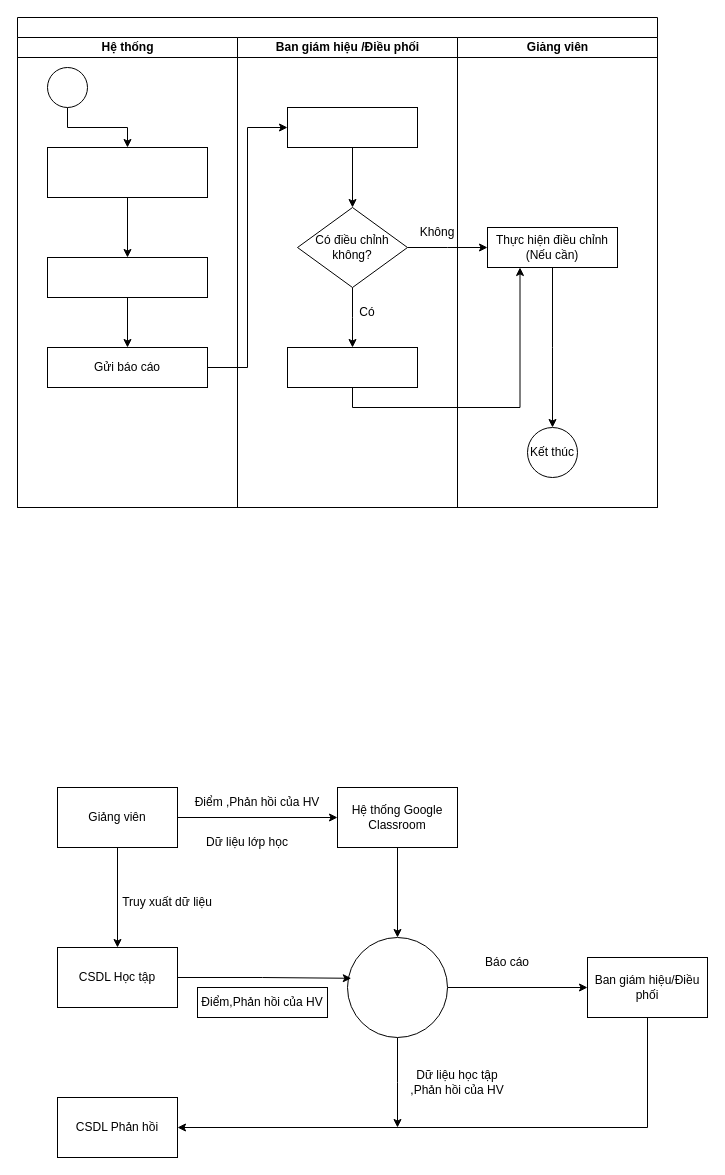
Some shapes in this 725 by 1175 pixel diagram are drawn without their labels. The shapes that lost their labels are listed below. From the top down, each one's box as (x1, y1, x2, y2) in pixels, then its label:
(46, 66, 88, 108): Bắt đầu
(286, 106, 418, 148): Nhận và xem báo cáo
(46, 146, 208, 198): Tự động thu thập dữ liệu lớp học(Điểm,tỷ lệ hoàn thành,phản hồi từ học viên)
(46, 256, 208, 298): Tổng hợp dữ liệu thành báo cáo
(16, 16, 658, 508): Quy trình báo cáo & giám sát
(286, 346, 418, 388): Ra quyết định điều chỉnh
(346, 936, 448, 1038): Tiến trình tổng hợp và tạo báo cáo
